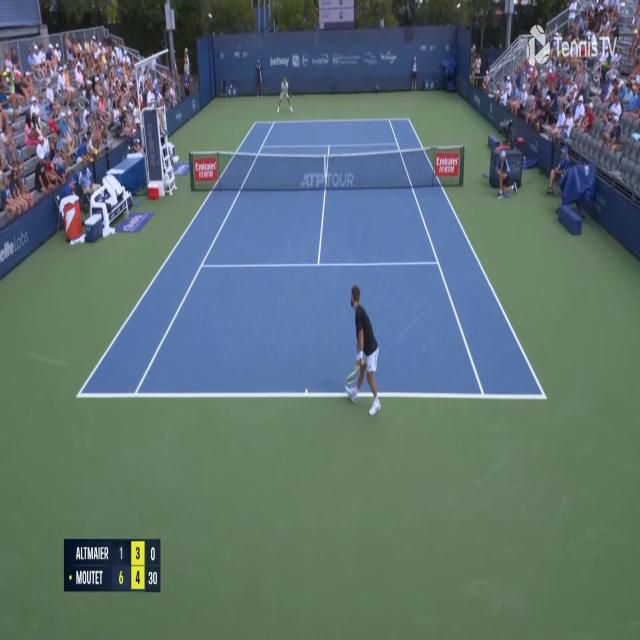tennis-player: (344, 281, 383, 419), (275, 76, 294, 115)
